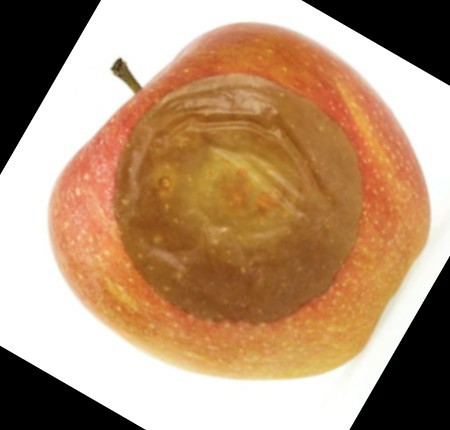rotten_apple: (49, 24, 430, 379)
